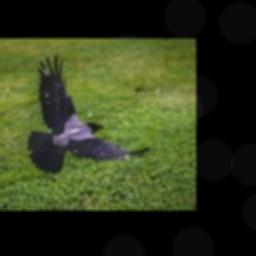Crow: (28, 53, 149, 174)
